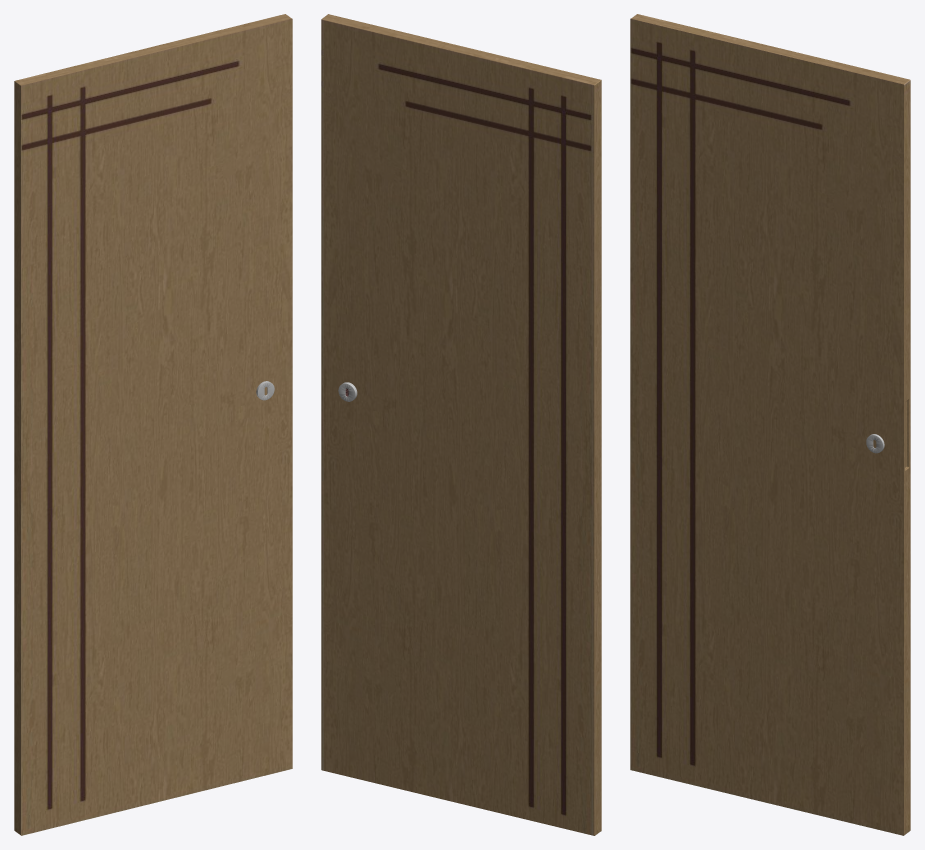
Rendered from door_body.glb.
The picture shows the model from 3 angles, left to right: view 1: azimuth 30°, elevation 25°; view 2: azimuth 150°, elevation 25°; view 3: azimuth 330°, elevation 25°; orthographic projection.
Parts seen in each view (by area): view 1: Porta pB190.001; view 2: Porta pB190.001; view 3: Porta pB190.001.
Boxes of the visible parts, bbox=[...] form: Porta pB190.001: bbox=[14, 14, 292, 835]; Porta pB190.001: bbox=[321, 14, 601, 835]; Porta pB190.001: bbox=[630, 14, 910, 835].
Bounding box in the file's own units: 0.7982 × 2.1 × 0.0533.
3 materials, 1 textured.
